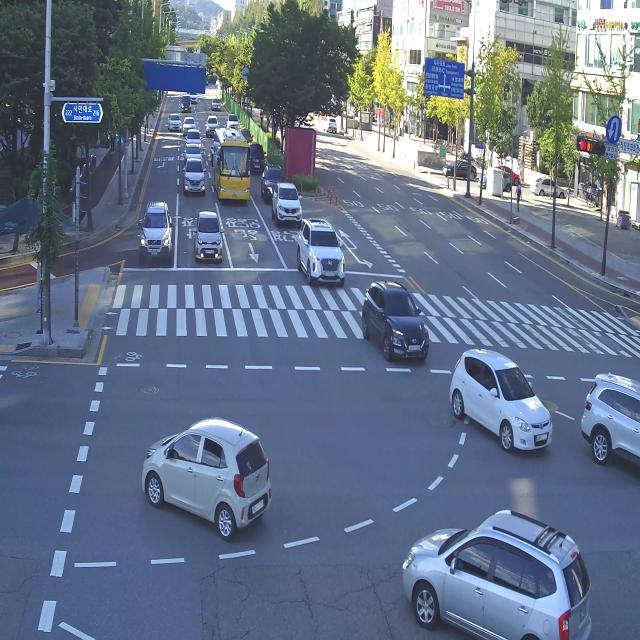Bus: (213, 125, 252, 209)
Car: (399, 504, 599, 640), (137, 400, 281, 550), (447, 337, 567, 474), (573, 341, 640, 478), (354, 270, 432, 371), (291, 208, 349, 292), (139, 194, 176, 272), (270, 175, 304, 233), (196, 206, 224, 274), (181, 153, 212, 199), (526, 170, 569, 202), (260, 162, 289, 209), (440, 151, 478, 185), (476, 165, 511, 197), (492, 159, 522, 188), (246, 140, 268, 177), (224, 104, 240, 135), (165, 106, 182, 135), (182, 144, 203, 166), (204, 111, 220, 139), (185, 127, 203, 150), (239, 126, 255, 150), (321, 114, 338, 133), (182, 112, 198, 131), (209, 93, 223, 113), (180, 94, 192, 114), (188, 87, 200, 106)
